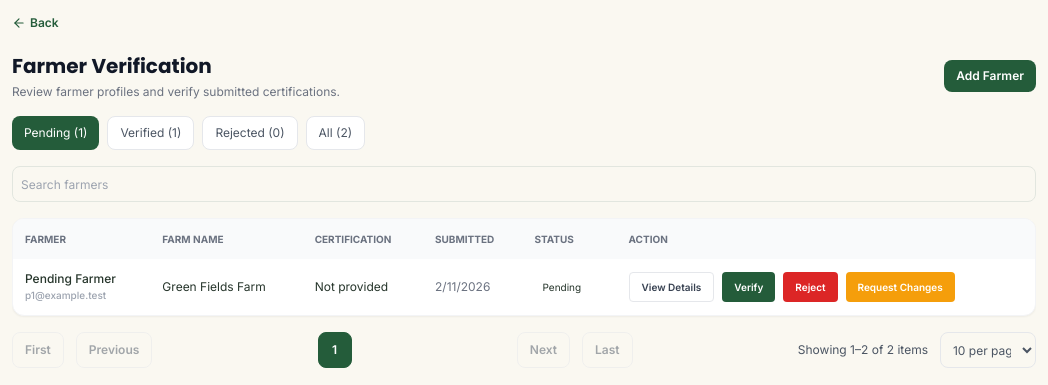
Test case: Admin farmer management › Tab filtering › shows only verified farmers when Verified tab is active
Expected: the text "Pending Farmer" is shown, [25,271,116,286]
Click the button "Verified (1)": {"x": 151, "y": 133} [107,116,194,150]
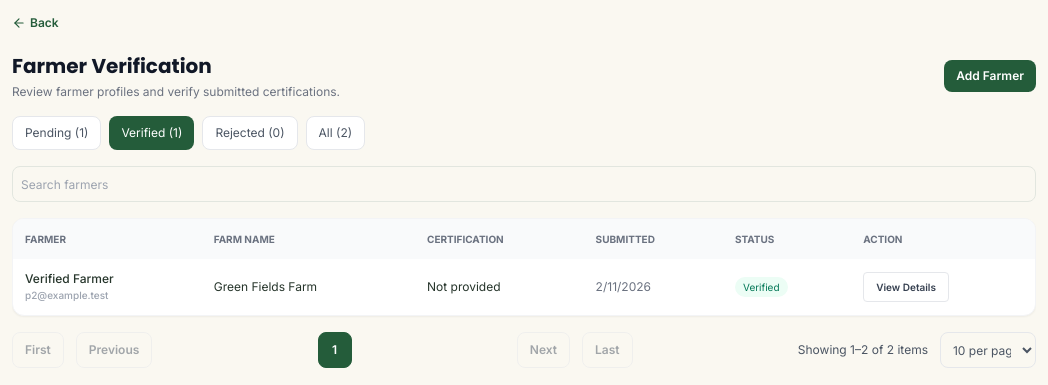
Expected: the text "Verified Farmer" is shown, [25,271,114,286]
Expected: the text "Pending Farmer" is gone
